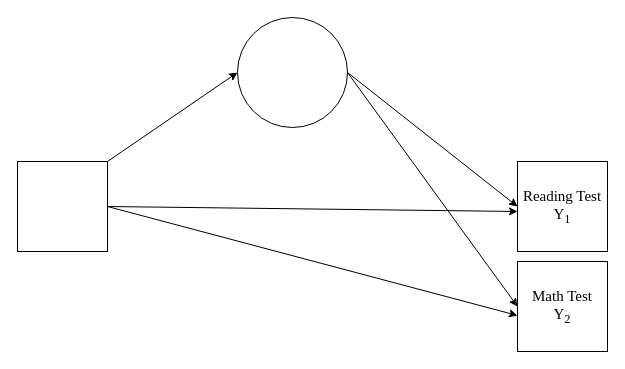
This 625x369 diagram has some shape labels left out. The box of each missing label's shape, as (x1, y1, x2, y2) in pixels:
Harass. & Staff C K =3: (236, 16, 348, 128)
Lunch Program X: (16, 160, 108, 252)
